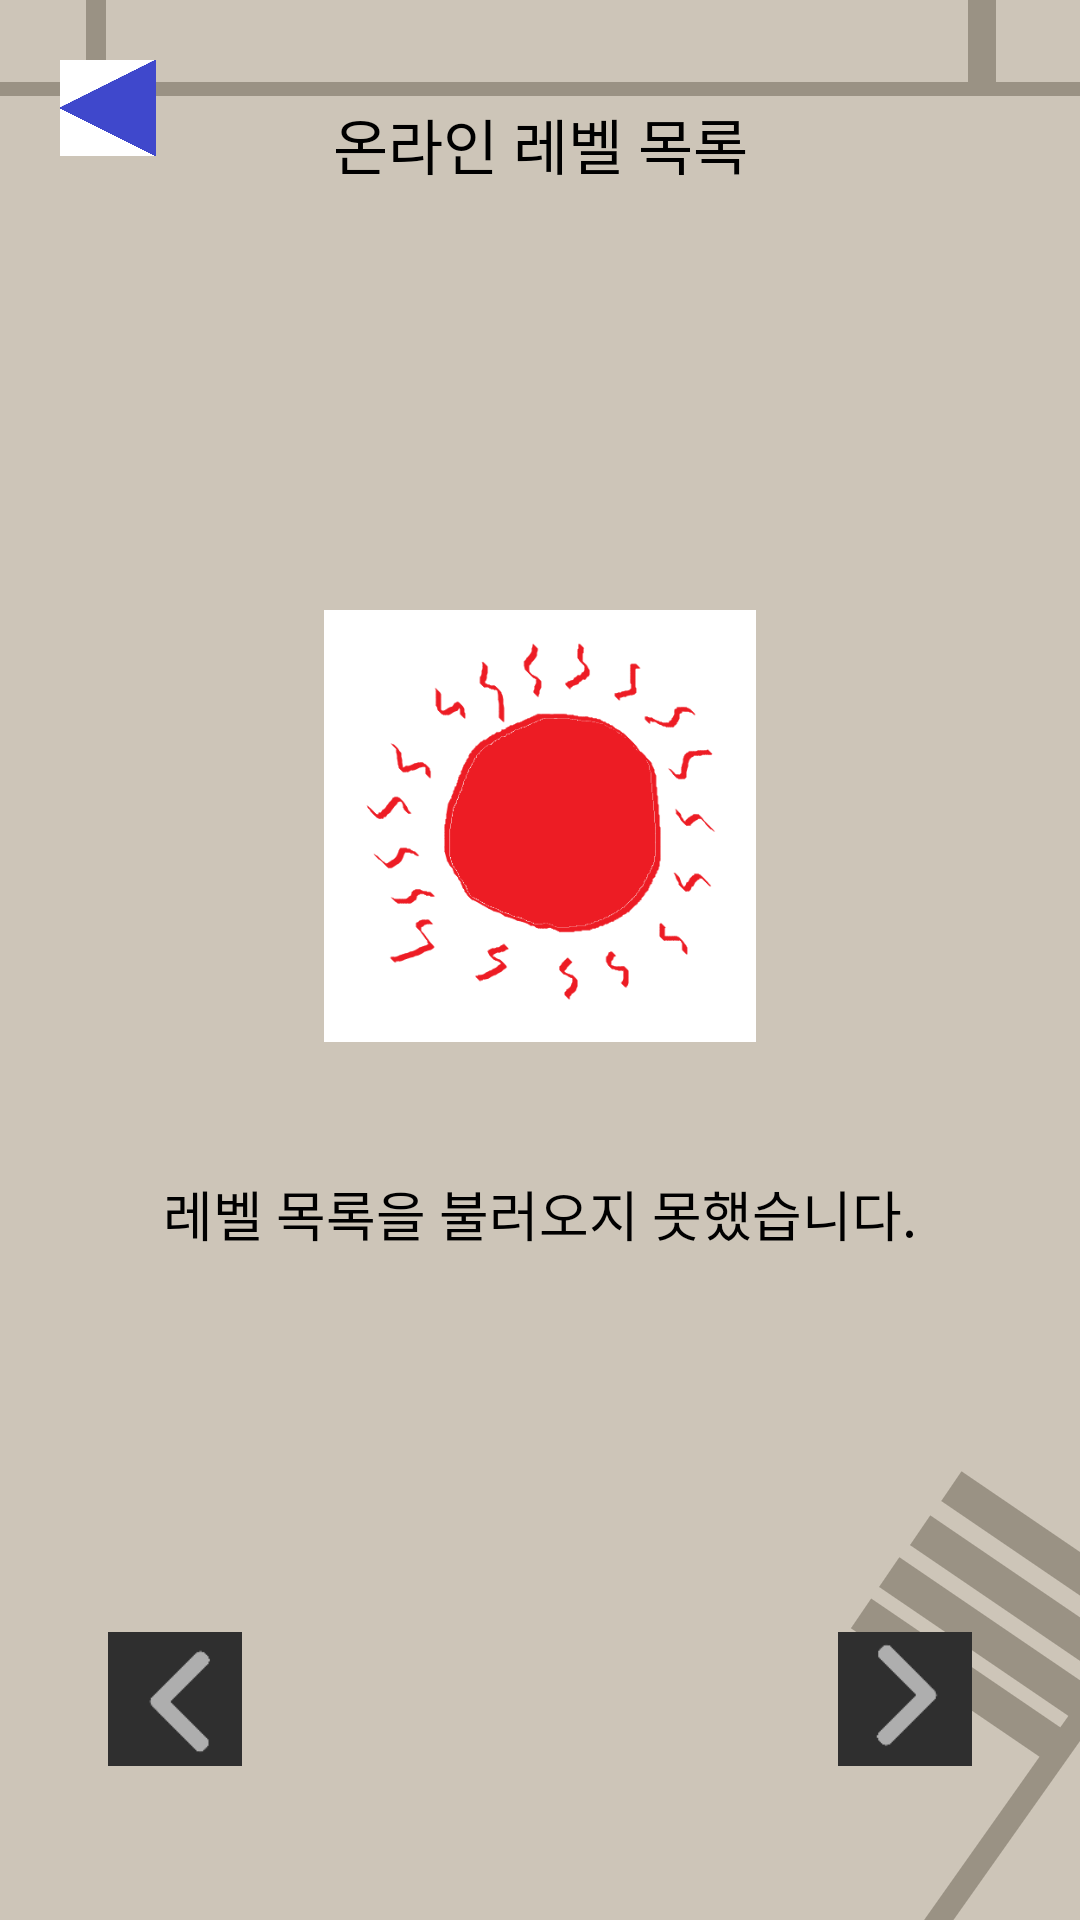

Named icons in this screenshot (1080x1920) and their centers, (x=x, y=y):
arrowkey left: (x=175, y=1699)
arrowkey right: (x=905, y=1699)
general back arrow: (x=108, y=108)
